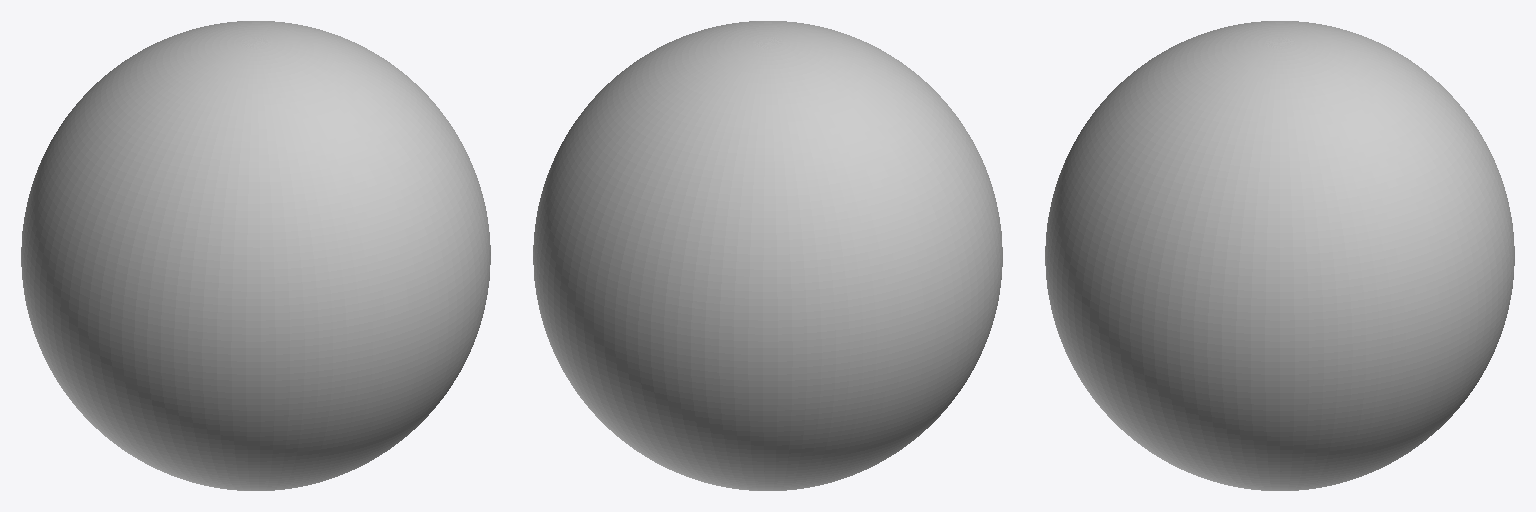
File: jupiter.obj
3 views of the same model, side by side, from view 1: azimuth 30°, elevation 25°; view 2: azimuth 150°, elevation 25°; view 3: azimuth 270°, elevation 25° (orthographic).
Parts seen in each view (by area): view 1: Jupiter_Sphere.005; view 2: Jupiter_Sphere.005; view 3: Jupiter_Sphere.005.
Part boxes in pixels (x1,y1,x2,y2): Jupiter_Sphere.005: (21,21,490,490); Jupiter_Sphere.005: (533,21,1002,490); Jupiter_Sphere.005: (1045,21,1514,490).
Bounding box in the file's own units: 1.99 × 2 × 1.99.